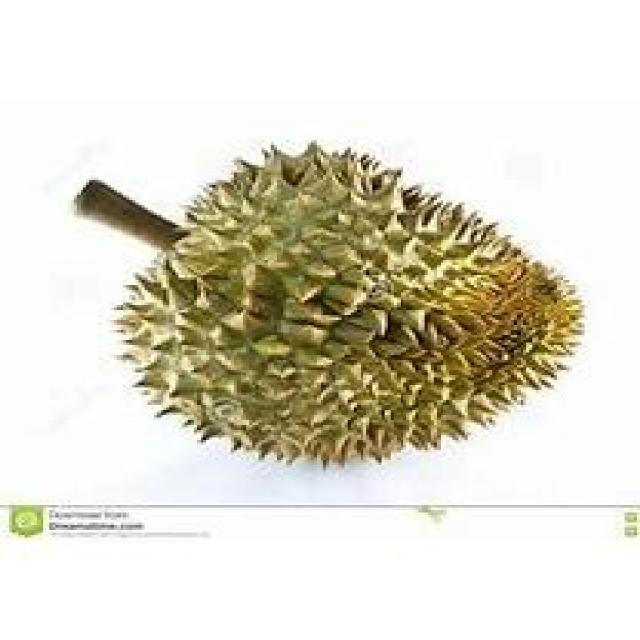Fruit: (148, 152, 452, 552)
